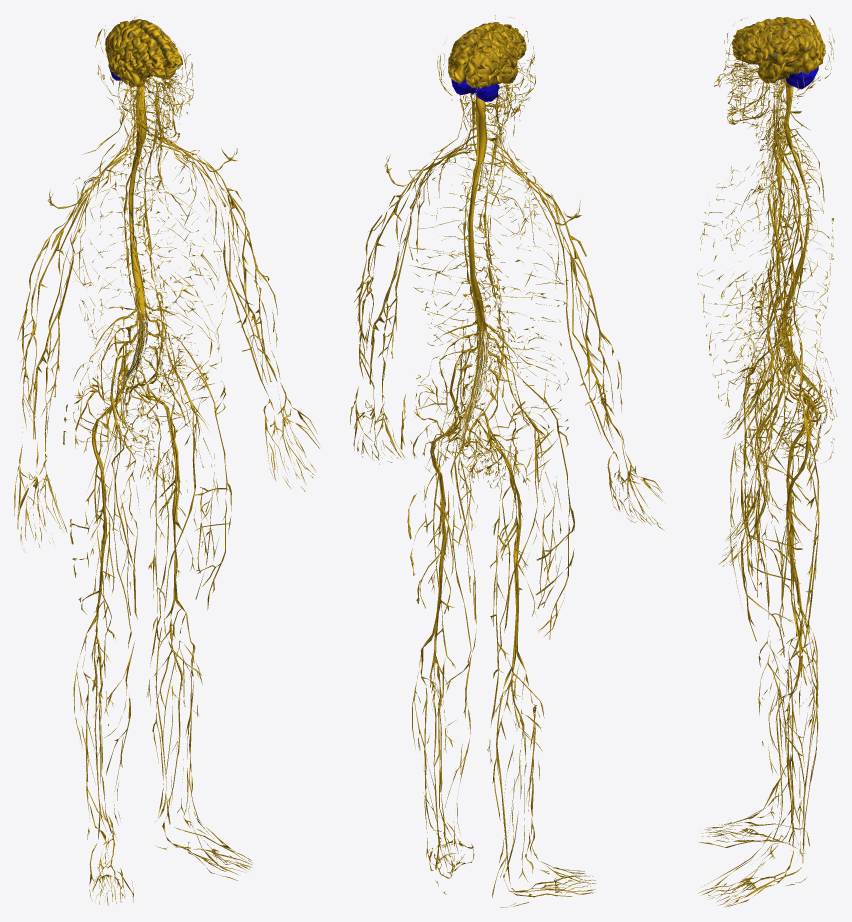
Rendered from sys-nervous.glb.
3 views of the same model, side by side, from view 1: azimuth 30°, elevation 25°; view 2: azimuth 150°, elevation 25°; view 3: azimuth 270°, elevation 25° (orthographic). The views are drawn at different scales.
Visible parts, largest first — view 1: Right_cerebral_cortex_and_pia_mater, Spinal_cord, Right_femoral_nerve, Left_lateral_femoral_cutaneous_nerve, Left_cerebral_cortex_and_pia_mater, Left_femoral_nerve, Left_saphenous_nerve, Right_saphenous_nerve, Right_lateral_femoral_cutaneous_nerve, Right_common_fibular_part_of_sciatic_nerve, Left_tibial_part_of_sciatic_nerve, Left_common_fibular_part_of_sciatic_nerve (+1 smaller); view 2: Right_cerebral_cortex_and_pia_mater, Spinal_cord, Left_cerebral_cortex_and_pia_mater, Right_lateral_femoral_cutaneous_nerve, Right_saphenous_nerve, Right_tibial_part_of_sciatic_nerve, Right_femoral_nerve, Left_lateral_femoral_cutaneous_nerve, Left_tibial_part_of_sciatic_nerve, Left_femoral_nerve, Left_saphenous_nerve, Left_posterior_femoral_cutaneous_nerve (+3 smaller); view 3: Left_cerebral_cortex_and_pia_mater, Left_lateral_femoral_cutaneous_nerve, Spinal_cord, Left_saphenous_nerve, Left_common_fibular_part_of_sciatic_nerve, Right_lateral_femoral_cutaneous_nerve, Right_saphenous_nerve, Left_femoral_nerve, Right_cerebral_cortex_and_pia_mater, Left_sympathetic_chain, Left_posterior_femoral_cutaneous_nerve, Left_tibial_part_of_sciatic_nerve (+24 smaller).
Part boxes in pixels (bbox=[...]): Right_cerebral_cortex_and_pia_mater: bbox=[105, 21, 165, 87]; Spinal_cord: bbox=[128, 86, 146, 318]; Right_femoral_nerve: bbox=[85, 356, 139, 615]; Left_lateral_femoral_cutaneous_nerve: bbox=[181, 342, 231, 610]; Left_cerebral_cortex_and_pia_mater: bbox=[129, 19, 182, 79]; Left_femoral_nerve: bbox=[165, 343, 218, 599]; Left_saphenous_nerve: bbox=[152, 411, 202, 815]; Right_saphenous_nerve: bbox=[104, 430, 137, 825]; Right_lateral_femoral_cutaneous_nerve: bbox=[63, 362, 111, 635]; Right_common_fibular_part_of_sciatic_nerve: bbox=[82, 397, 116, 684]; Left_tibial_part_of_sciatic_nerve: bbox=[139, 386, 185, 618]; Left_common_fibular_part_of_sciatic_nerve: bbox=[149, 388, 195, 654]; Right_cerebral_cortex_and_pia_mater: bbox=[465, 24, 526, 88]; Spinal_cord: bbox=[468, 97, 487, 331]; Left_cerebral_cortex_and_pia_mater: bbox=[448, 22, 502, 83]; Right_lateral_femoral_cutaneous_nerve: bbox=[522, 380, 574, 639]; Right_saphenous_nerve: bbox=[492, 430, 544, 862]; Right_tibial_part_of_sciatic_nerve: bbox=[479, 426, 528, 690]; Right_femoral_nerve: bbox=[506, 371, 561, 608]; Left_lateral_femoral_cutaneous_nerve: bbox=[400, 360, 450, 613]; Left_tibial_part_of_sciatic_nerve: bbox=[427, 424, 458, 673]; Left_femoral_nerve: bbox=[423, 360, 478, 592]; Left_saphenous_nerve: bbox=[445, 409, 476, 853]; Left_posterior_femoral_cutaneous_nerve: bbox=[424, 448, 455, 752]; Left_cerebral_cortex_and_pia_mater: bbox=[732, 22, 823, 83]; Left_lateral_femoral_cutaneous_nerve: bbox=[741, 374, 817, 641]; Spinal_cord: bbox=[783, 86, 809, 317]; Left_saphenous_nerve: bbox=[754, 432, 805, 838]; Left_common_fibular_part_of_sciatic_nerve: bbox=[781, 406, 809, 700]; Right_lateral_femoral_cutaneous_nerve: bbox=[741, 338, 818, 590]; Right_saphenous_nerve: bbox=[754, 394, 804, 814]; Left_femoral_nerve: bbox=[730, 361, 787, 604]; Right_cerebral_cortex_and_pia_mater: bbox=[732, 17, 825, 56]; Left_sympathetic_chain: bbox=[766, 98, 817, 418]; Left_posterior_femoral_cutaneous_nerve: bbox=[801, 446, 819, 734]; Left_tibial_part_of_sciatic_nerve: bbox=[786, 404, 812, 664].
Bounding box in the file's own units: 0.6451 × 1.69 × 0.2546.
Materials: 492 (492 with a texture image).
